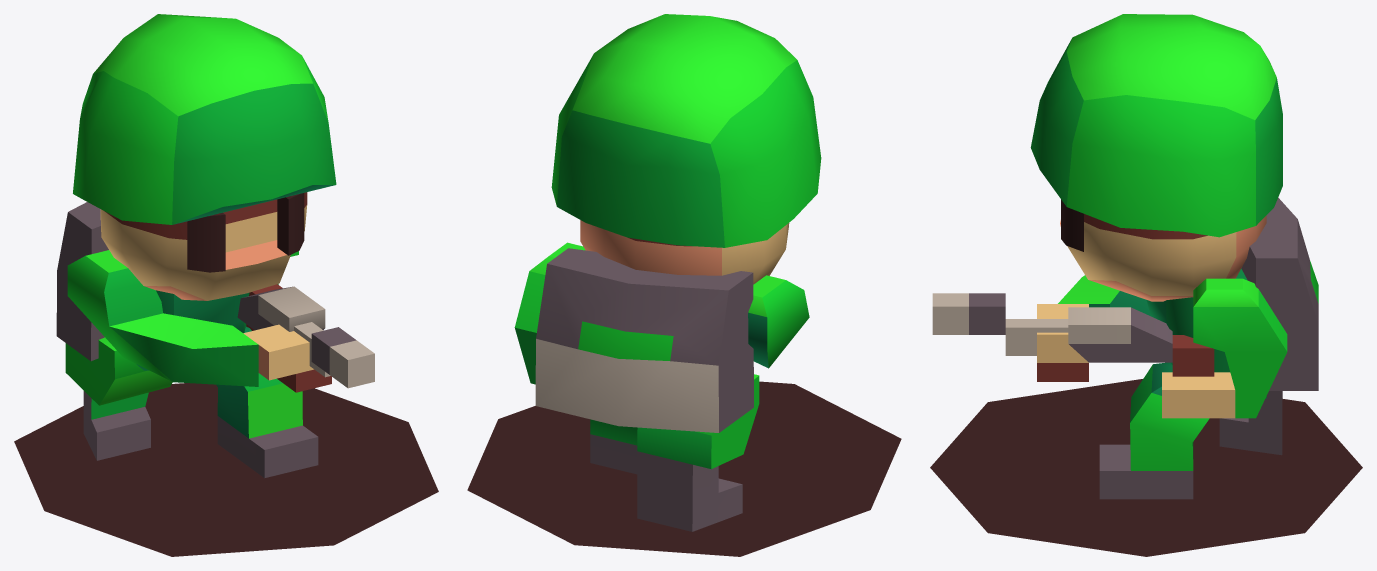
Rendered from InfantryMesh.GreenEarth.glb.
The picture shows the model from 3 angles, left to right: view 1: azimuth 30°, elevation 25°; view 2: azimuth 150°, elevation 25°; view 3: azimuth 270°, elevation 25°; orthographic projection. The views are drawn at different scales.
Parts seen in each view (by area): view 1: InfantryMesh.GreenEarth; view 2: InfantryMesh.GreenEarth; view 3: InfantryMesh.GreenEarth.
Part boxes in pixels (left/top/right/bottom): InfantryMesh.GreenEarth: left=14, top=14, right=438, bottom=556; InfantryMesh.GreenEarth: left=467, top=14, right=901, bottom=556; InfantryMesh.GreenEarth: left=930, top=14, right=1362, bottom=556.
Bounding box in the file's own units: 2.03 × 2.3 × 2.07.
Materials: 1 (1 with a texture image).
